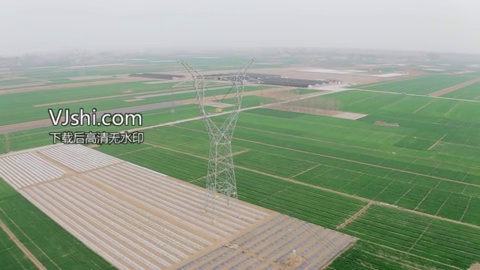tower_body: (172, 57, 271, 223)
tower_foot: (201, 178, 243, 220)
tower_head: (173, 59, 268, 143)
